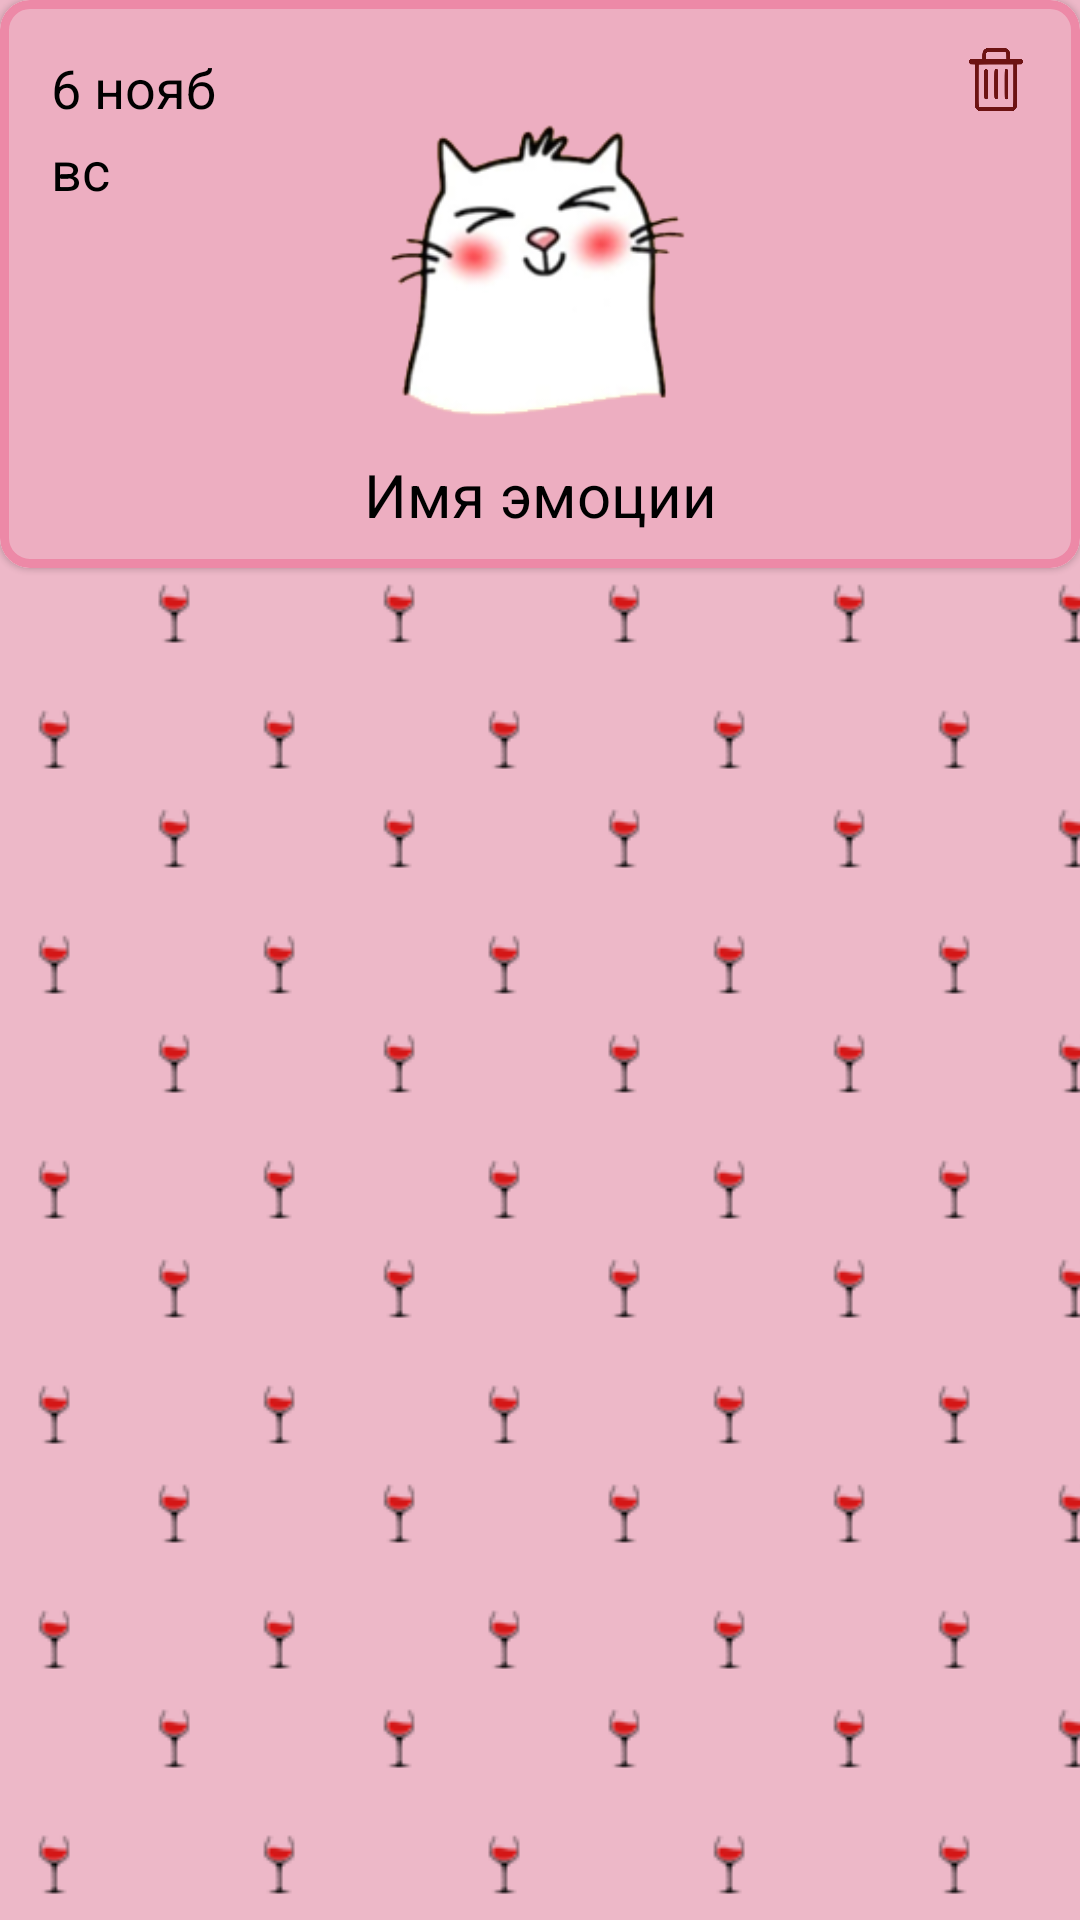

Where icons sit on this 1080*1920 app screen, as [x1=x1, y1=y1, x2=x2, y2=y2]:
bin: [x1=969, y1=48, x2=1023, y2=111]
emmo happy: [x1=390, y1=125, x2=684, y2=414]
